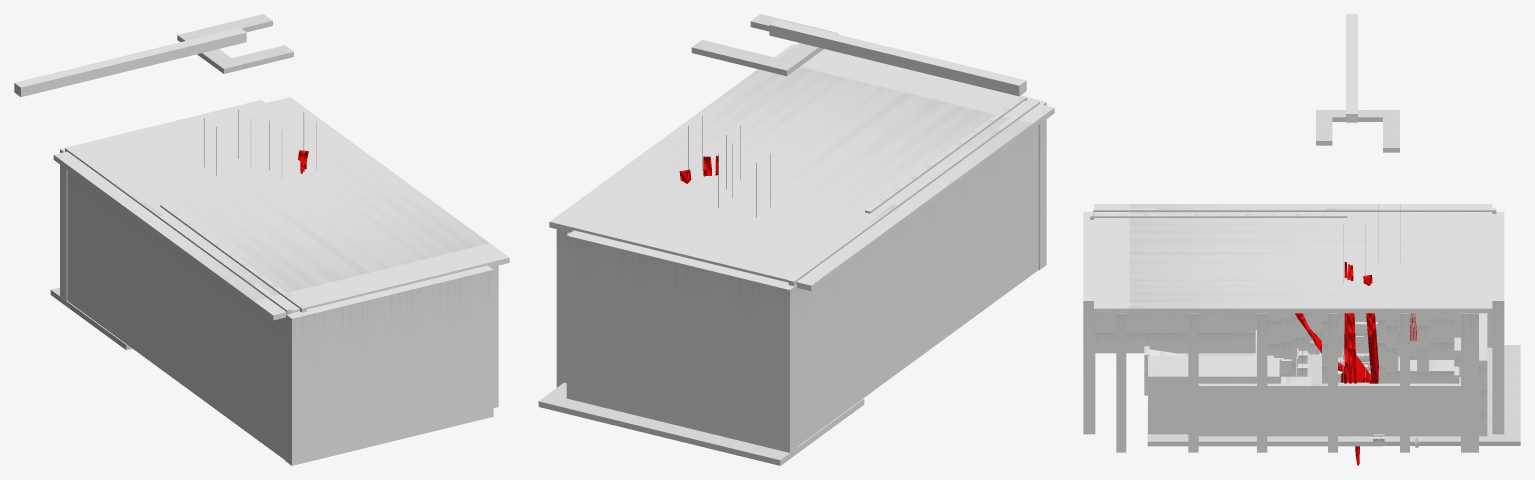
File: Tower3Proto2.fbx
3 views of the same model, side by side, from view 1: azimuth 30°, elevation 25°; view 2: azimuth 150°, elevation 25°; view 3: azimuth 270°, elevation 25° (orthographic). The views are drawn at different scales.
Parts seen in each view (by area): view 1: pb_Cube_6832086__4_; view 2: pb_Cube_6832086__4_; view 3: pb_Cube_6832086__4_.
Part boxes in pixels (left/top/right/bottom): pb_Cube_6832086__4_: left=14, top=14, right=509, bottom=465; pb_Cube_6832086__4_: left=538, top=14, right=1054, bottom=465; pb_Cube_6832086__4_: left=1083, top=14, right=1520, bottom=465.
Size of the model in its own units: 73.62 by 73.51 by 85.83.
20 materials, 20 textured.
